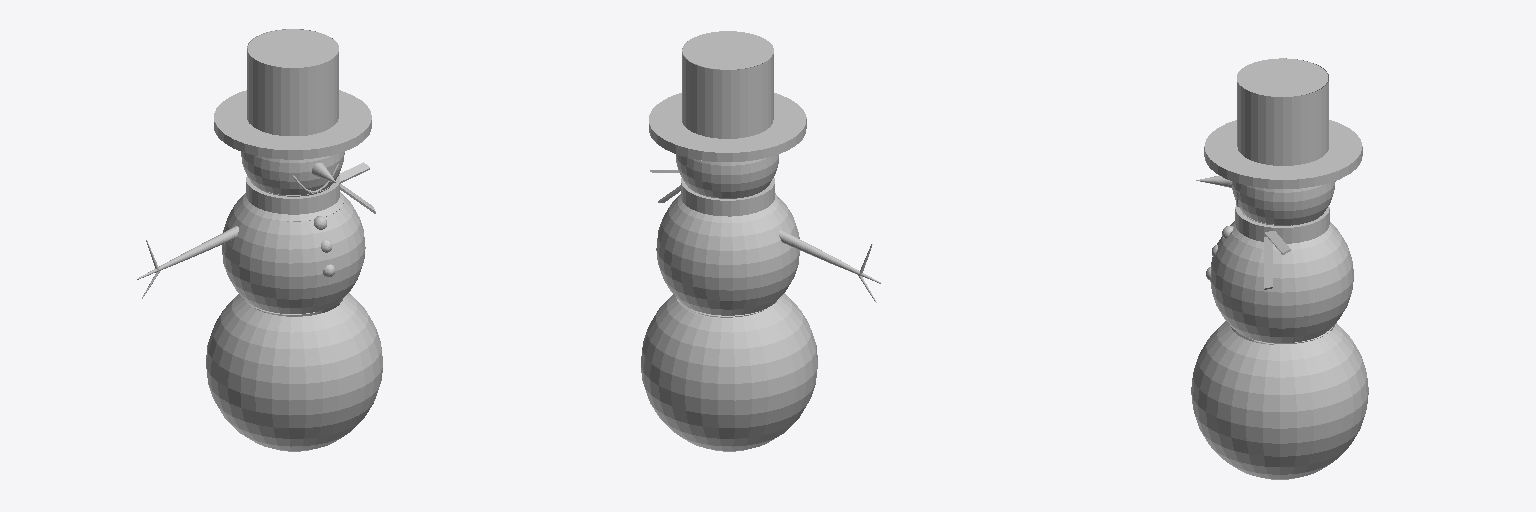
The model's file is cuerpo.obj.
3 renders of one model, left to right at view 1: azimuth 30°, elevation 25°; view 2: azimuth 150°, elevation 25°; view 3: azimuth 270°, elevation 25°, orthographic.
Visible parts, largest first — view 1: cuerpo:polySurface47; view 2: cuerpo:polySurface47; view 3: cuerpo:polySurface47.
Boxes of the visible parts, <box> form: cuerpo:polySurface47: <box>137,29,382,451</box>; cuerpo:polySurface47: <box>641,31,880,451</box>; cuerpo:polySurface47: <box>1191,58,1368,479</box>.
Bounding box in the file's own units: 0.8058 × 1.31 × 0.5354.